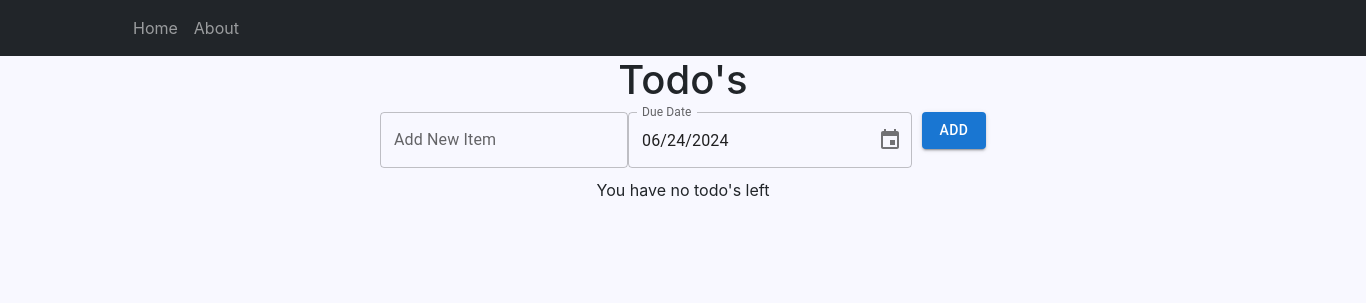
Scenario: delete task
In the field labelled "Add New Item": (504, 140) [380,112,628,168], type "Task to be deleted"
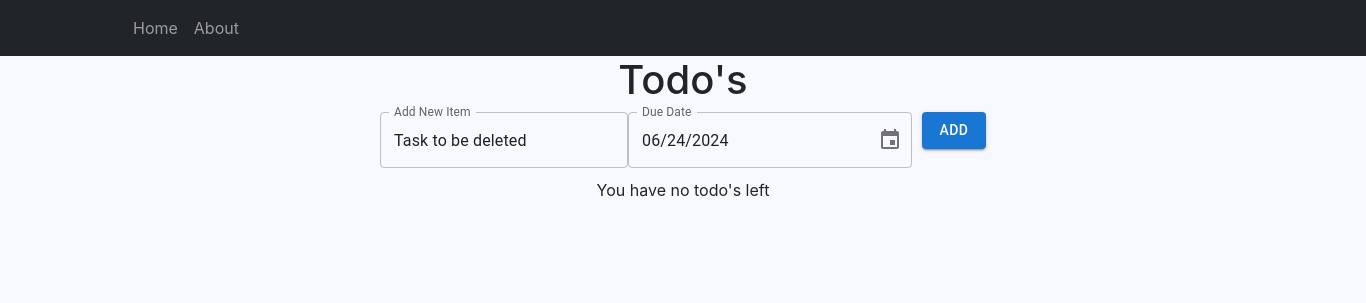
Replace the text in the field with placeholder "mm/dd/yyyy" with "12/30/2023": (745, 140) [628,112,862,168]
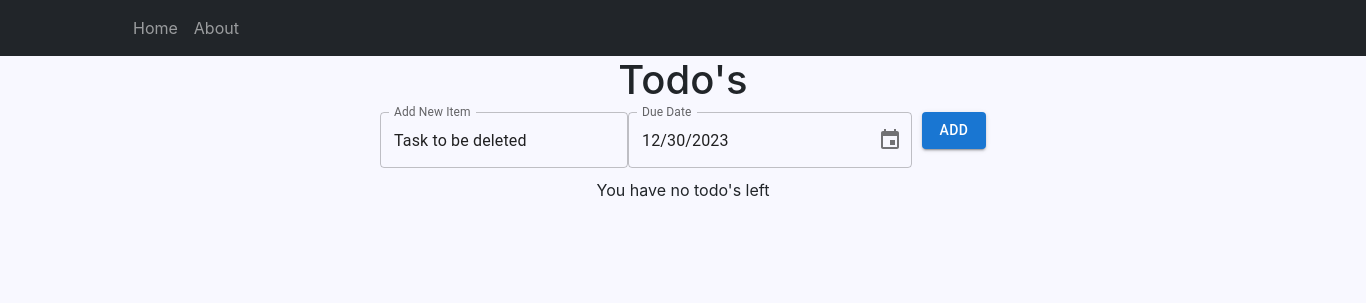
Click the button "Add": click(954, 130) [922,112,986,148]
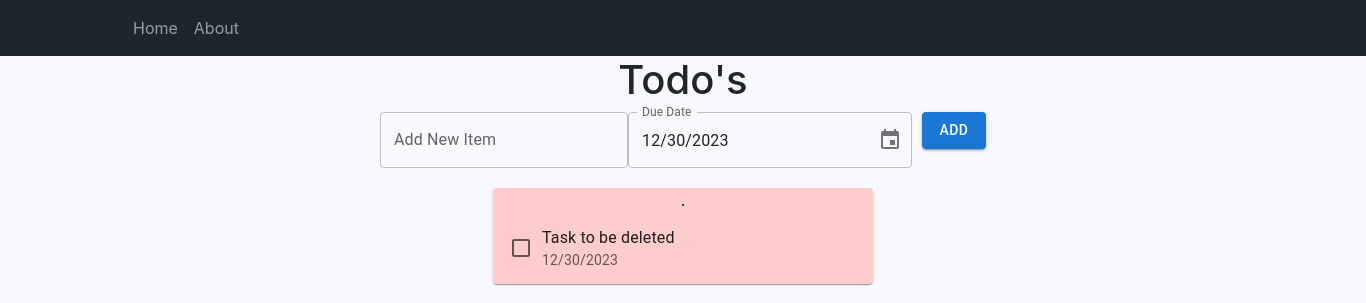
Click the checkbox: click(521, 248) [509,236,533,260]
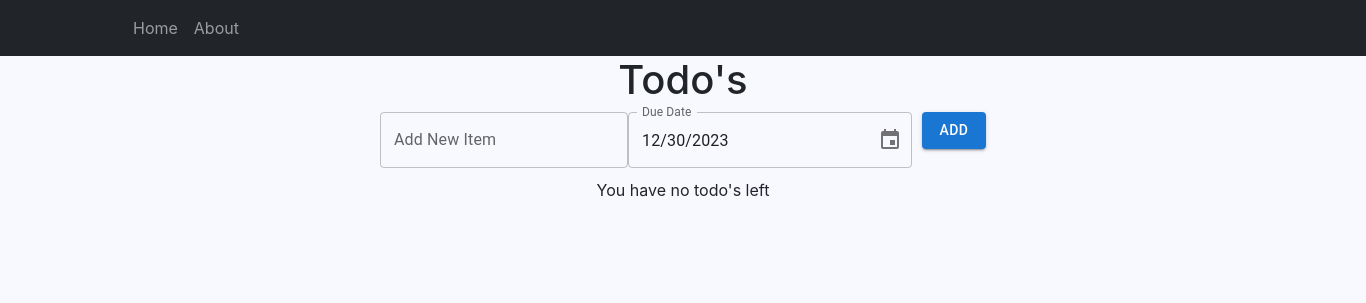
Expected: the link "Task to be deleted" is gone
